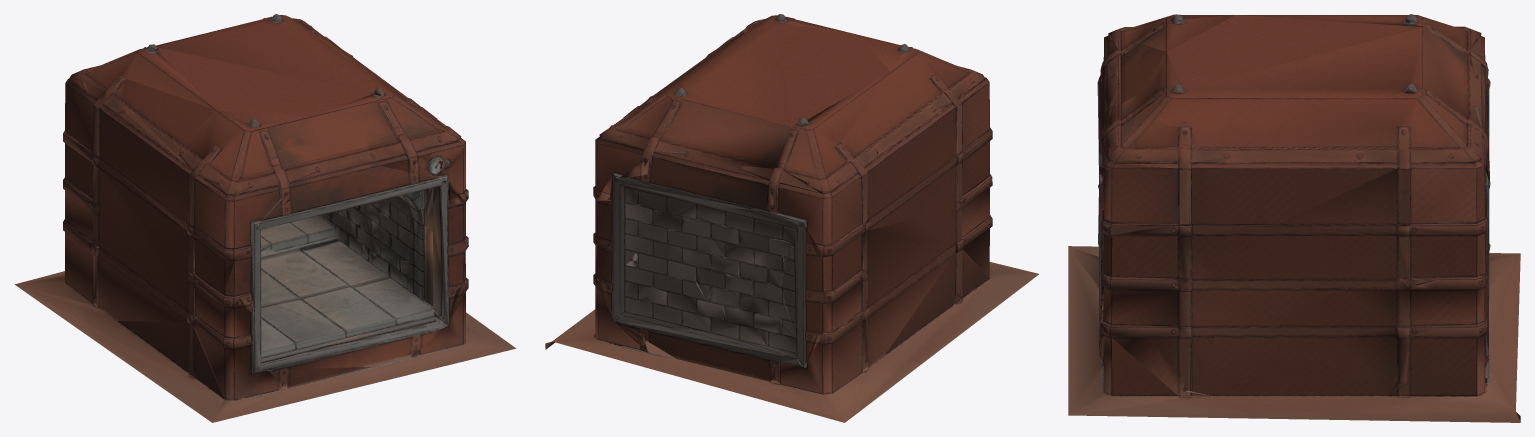
Rendered from Meshy_AI_Copper_Hearth_Oven_0829081145_texture.fbx.
3 views of the same model, side by side, from view 1: azimuth 30°, elevation 25°; view 2: azimuth 150°, elevation 25°; view 3: azimuth 270°, elevation 25° (orthographic). The views are drawn at different scales.
Visible parts, largest first — view 1: output_unwrapped; view 2: output_unwrapped; view 3: output_unwrapped.
Part boxes in pixels (x1,y1,x2,y2): output_unwrapped: [14, 14, 515, 422]; output_unwrapped: [545, 14, 1038, 422]; output_unwrapped: [1068, 14, 1520, 422].
Bounding box in the file's own units: 169 × 134 × 190.
1 material, 1 textured.
